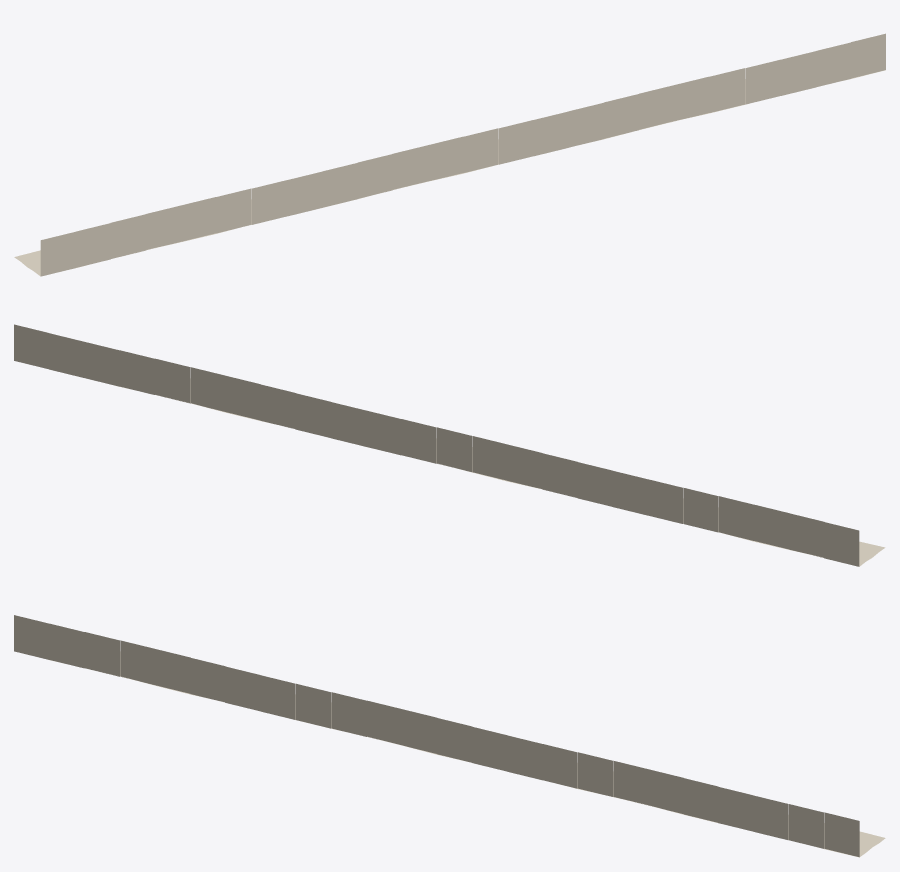
Rendered from 3-scan.glb.
3 views of the same model, one above another, from view 1: azimuth 30°, elevation 25°; view 2: azimuth 150°, elevation 25°; view 3: azimuth 330°, elevation 25° (orthographic).
Visible parts, largest first — view 1: scan-N-3; view 2: scan-N-3; view 3: scan-N-3.
Part boxes in pixels (<box>): scan-N-3: <box>14,33,885,276</box>; scan-N-3: <box>14,324,885,566</box>; scan-N-3: <box>14,615,885,857</box>.
Bounding box in the file's own units: 77.78 × 3.24 × 4.3.
